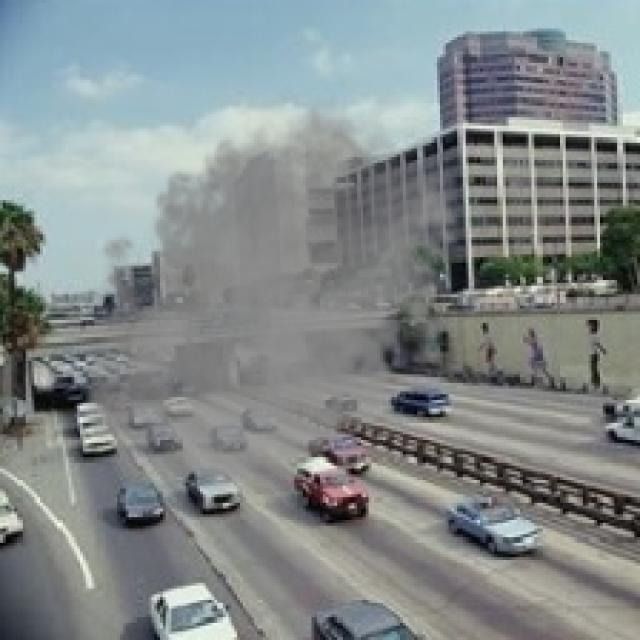Smoke: (77, 83, 472, 506)
